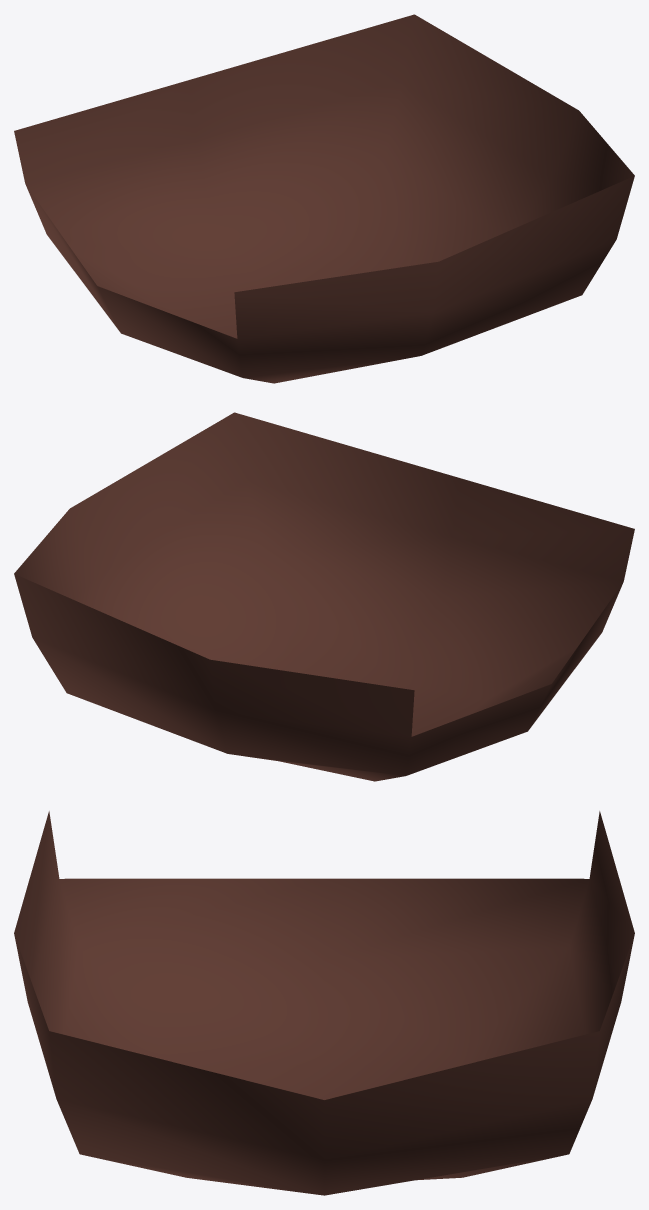
Rendered from MarsFH.glb.
The picture shows the model from 3 angles, top to bottom: view 1: azimuth 30°, elevation 25°; view 2: azimuth 150°, elevation 25°; view 3: azimuth 270°, elevation 25°; orthographic projection. The views are drawn at different scales.
Parts seen in each view (by area): view 1: MarsBeard; view 2: MarsBeard; view 3: MarsBeard.
Part boxes in pixels (x1,y1,x2,y2): MarsBeard: (14,14,634,383); MarsBeard: (14,412,634,781); MarsBeard: (14,811,634,1195).
Size of the model in its own units: 4.68 by 1.69 by 4.18.
